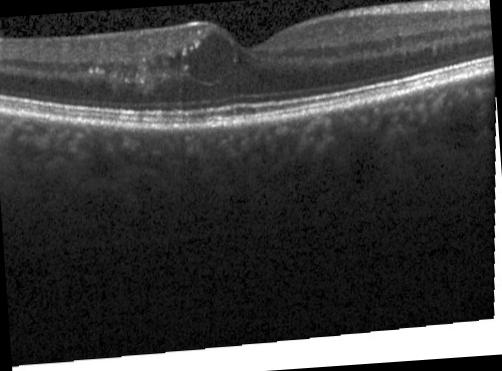intraretinal_cyst: (183, 31, 234, 81), (164, 51, 183, 69)
